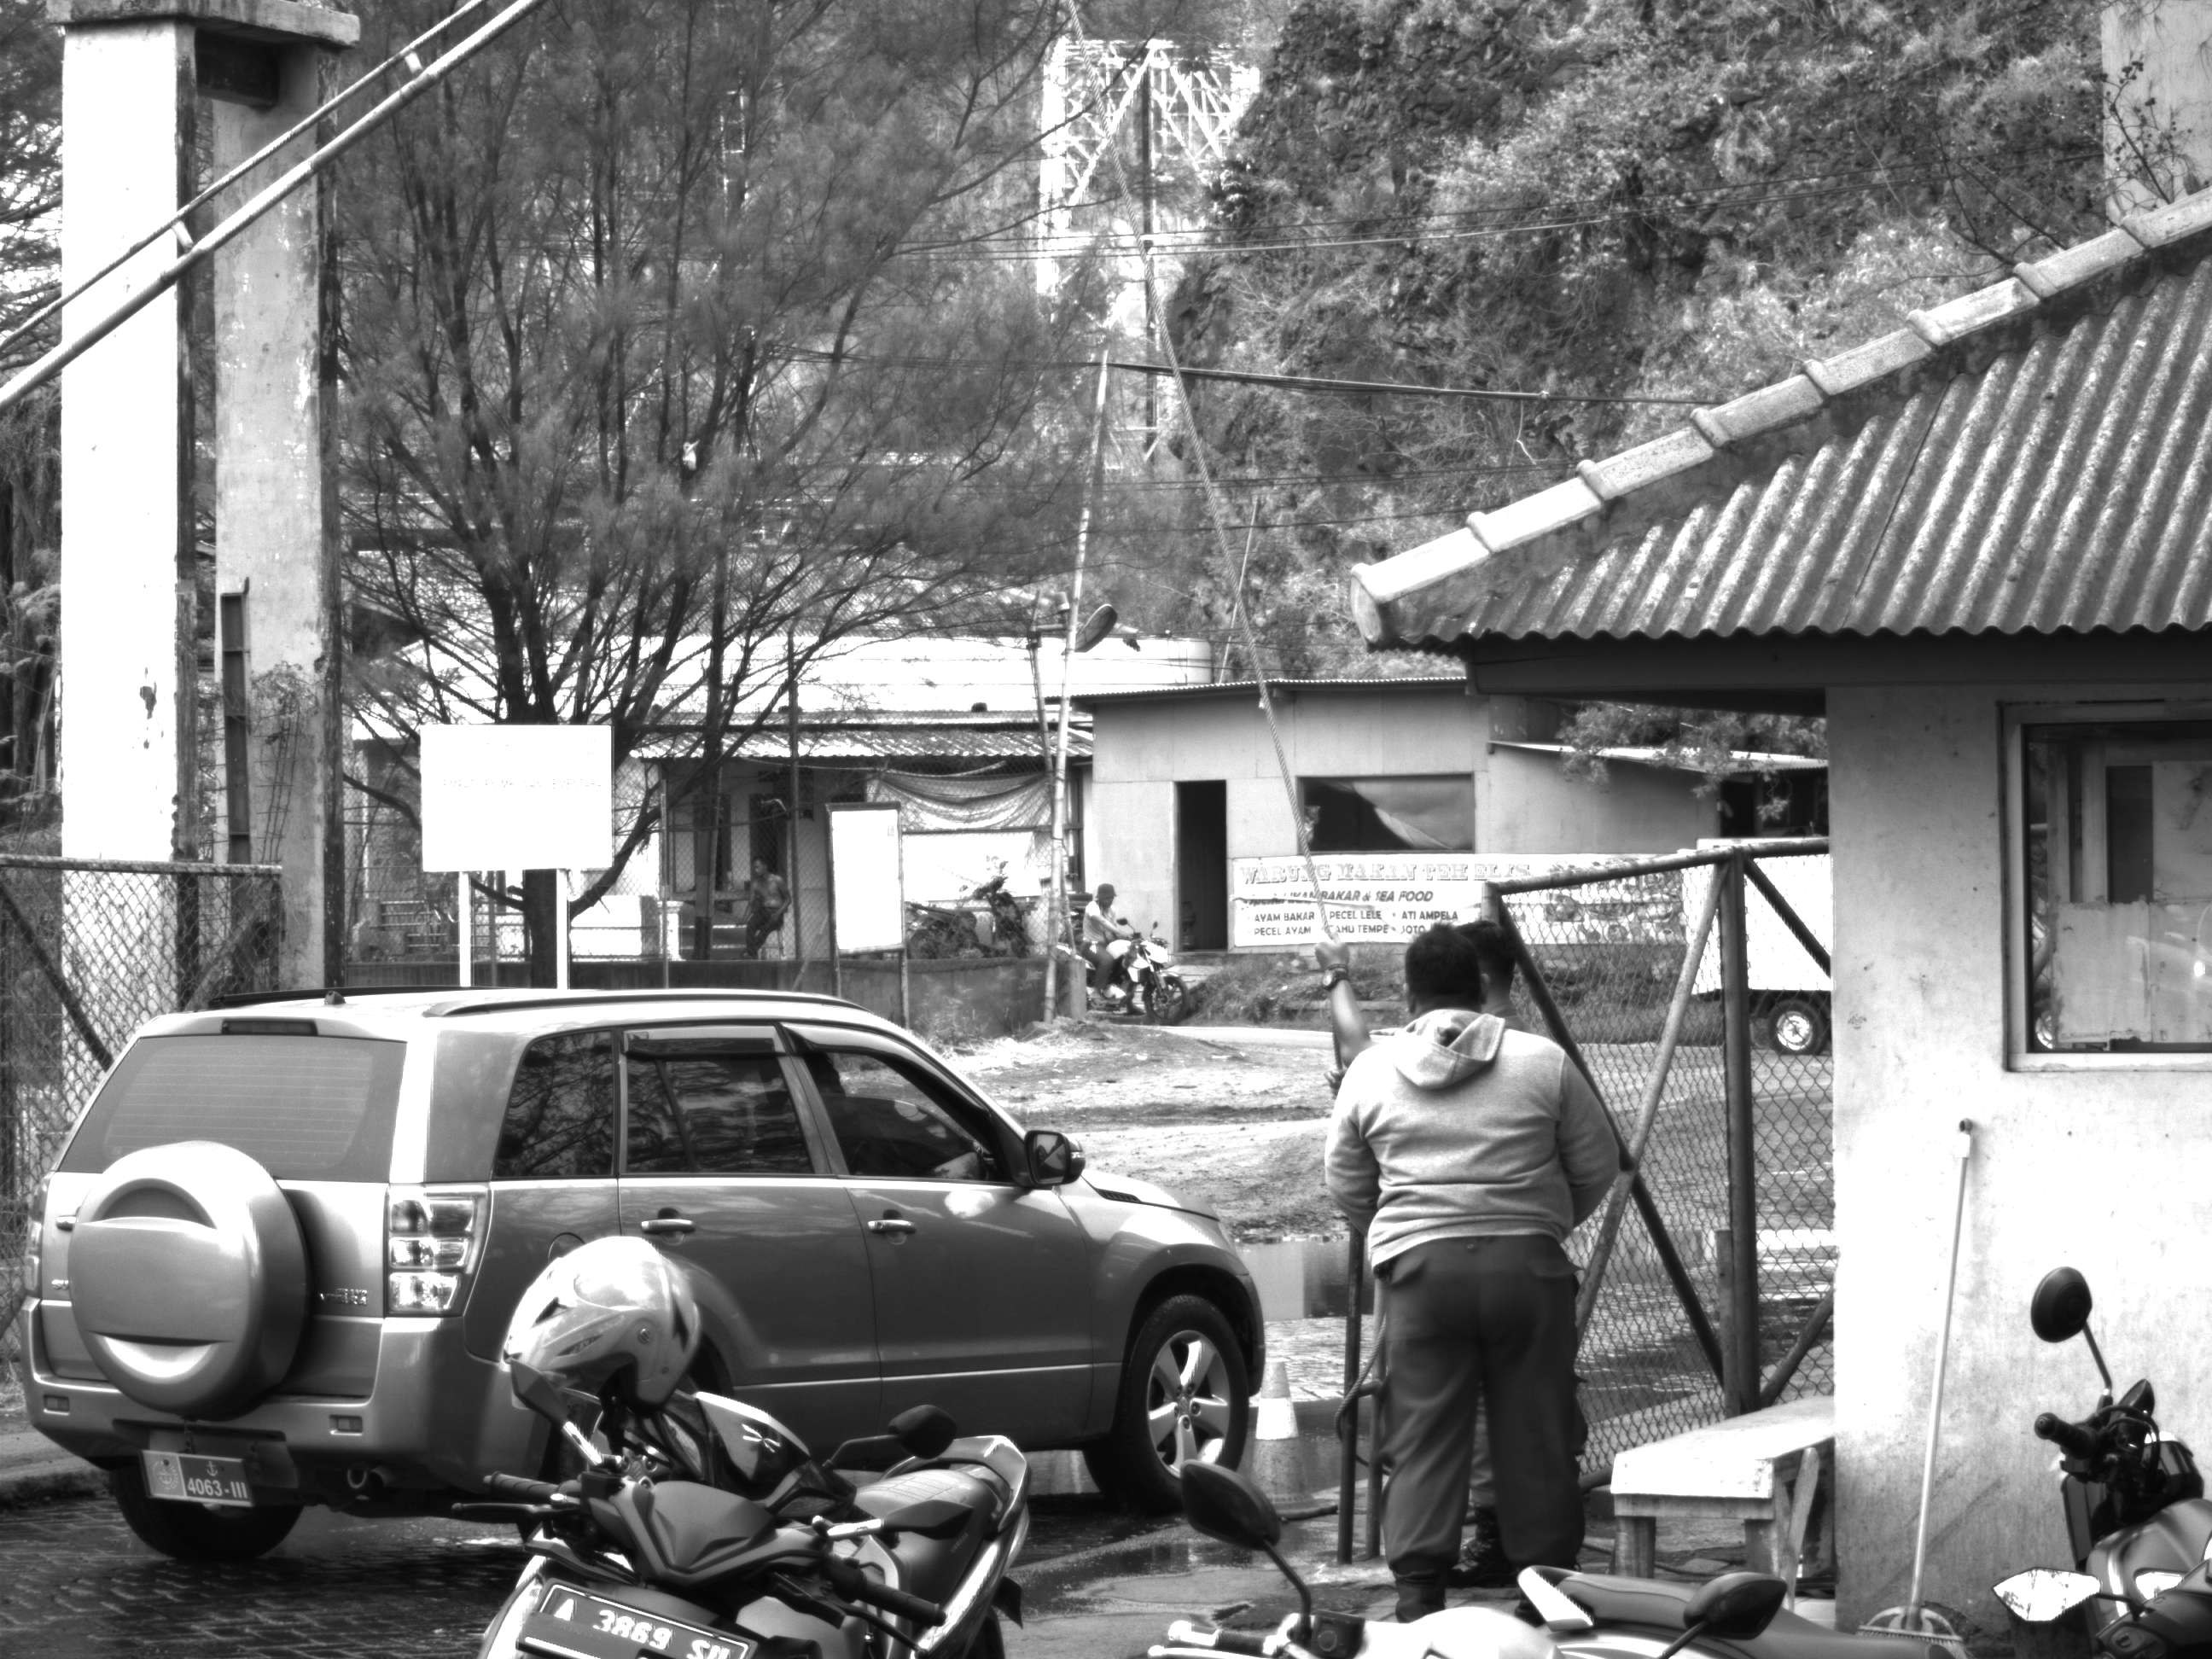day_small_rear: (23, 978, 544, 1563)
plate: (515, 1566, 764, 1659), (131, 1442, 258, 1515)
